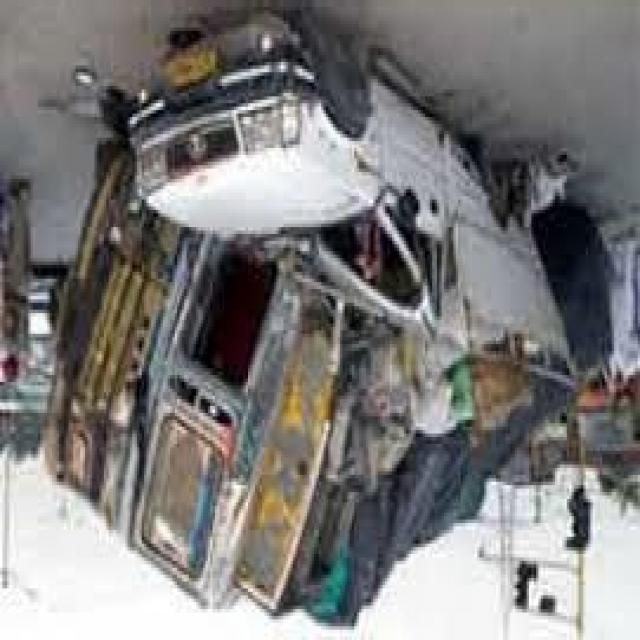severe: (31, 11, 582, 626)
